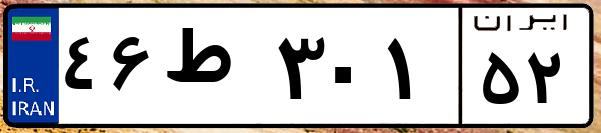0: (330, 28, 385, 110)
1: (385, 28, 445, 110)
2: (525, 38, 570, 115)
3: (270, 28, 330, 110)
4: (57, 26, 110, 100)
5: (475, 38, 525, 113)
6: (110, 28, 158, 98)
ط: (158, 20, 270, 120)
